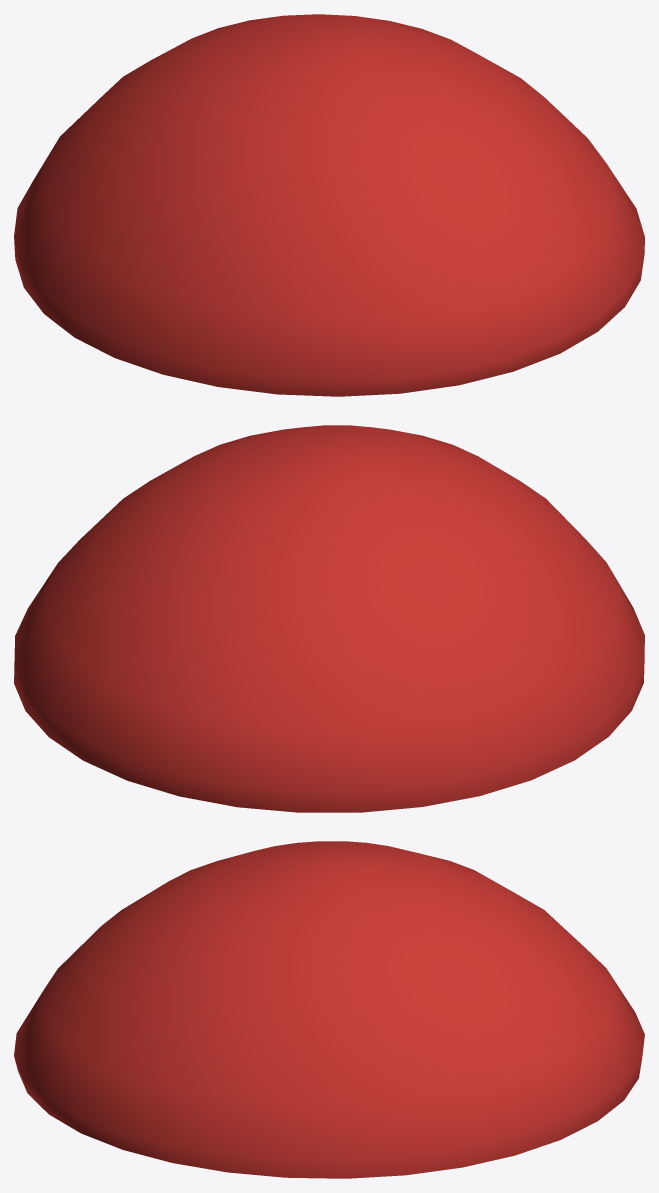
Rendered from RobotHand_Liquid.fbx.
The picture shows the model from 3 angles, top to bottom: view 1: azimuth 30°, elevation 25°; view 2: azimuth 150°, elevation 25°; view 3: azimuth 270°, elevation 25°; orthographic projection. The views are drawn at different scales.
Parts seen in each view (by area): view 1: Core; view 2: Core; view 3: Core.
Boxes of the visible parts, left/top/right/bottom form: Core: left=14, top=14, right=644, bottom=396; Core: left=14, top=425, right=644, bottom=812; Core: left=14, top=841, right=644, bottom=1178.
Size of the model in its own units: 0.4292 by 0.1691 by 0.4688.
